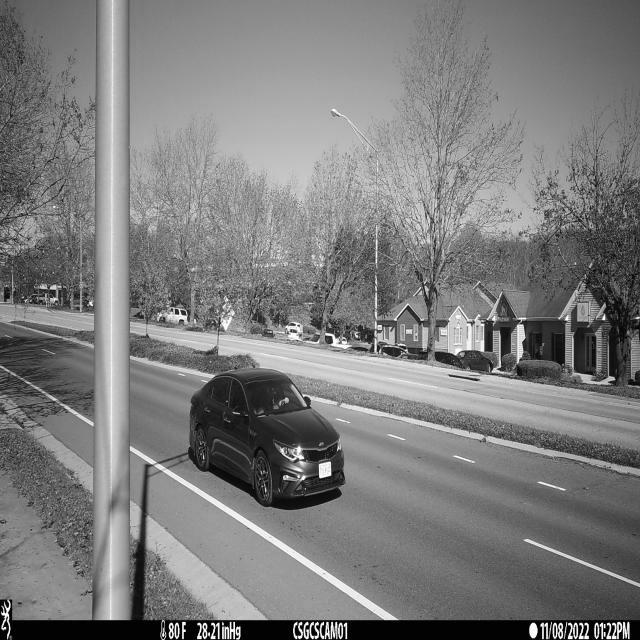Sedan: (187, 369, 346, 510)
